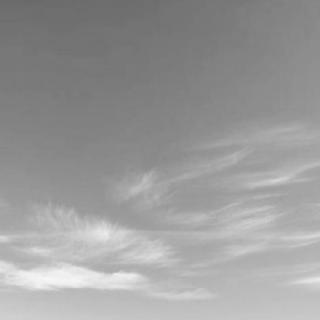Cirrostratus: (0, 123, 320, 320)
